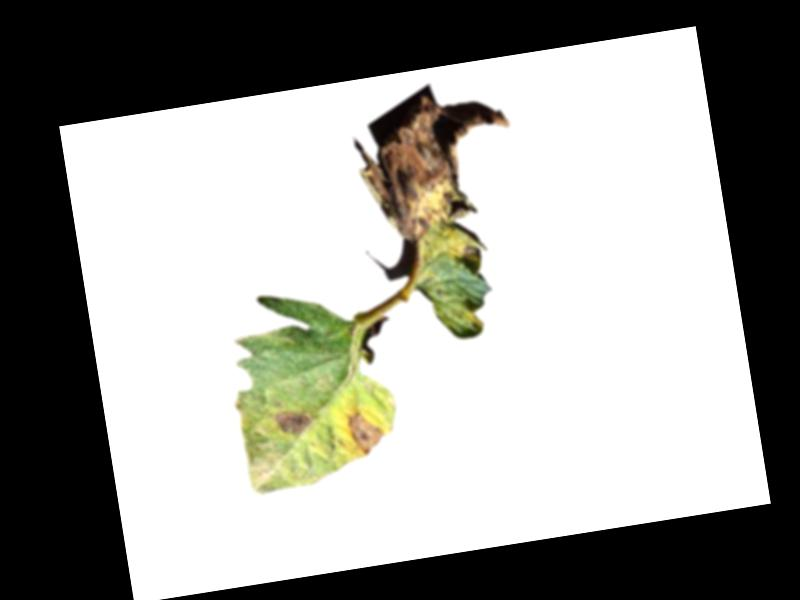Early_blight: (347, 82, 533, 278), (347, 409, 387, 456), (275, 406, 317, 439)
